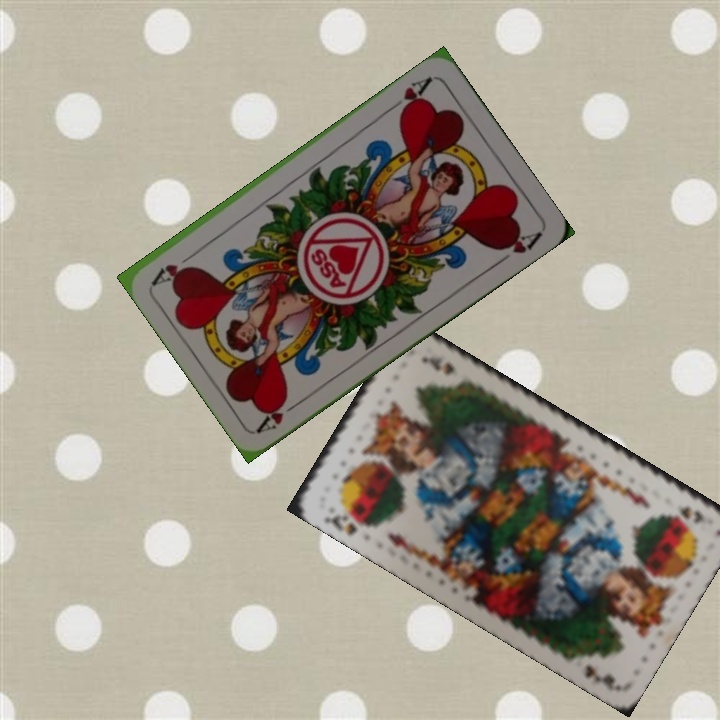HA: (384, 72, 435, 118), (254, 392, 307, 435)
SK: (320, 507, 375, 539), (673, 502, 707, 526)
